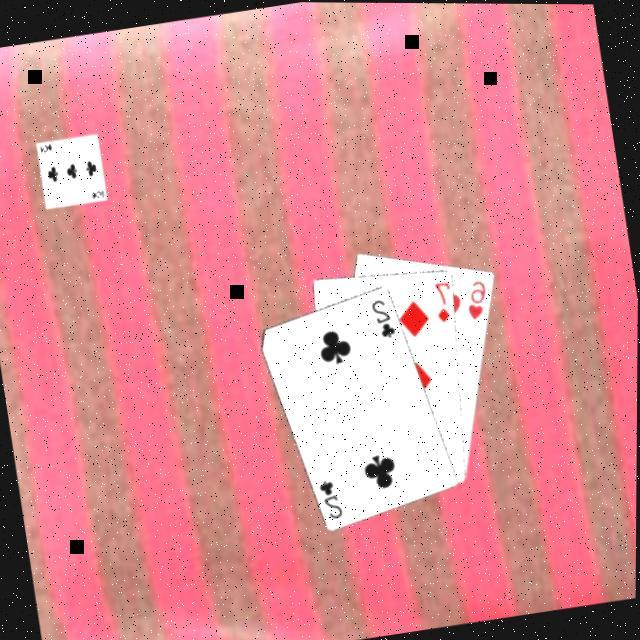2C: (366, 292, 399, 341), (315, 472, 346, 520)
6H: (461, 274, 494, 322)
7D: (429, 275, 456, 324)
